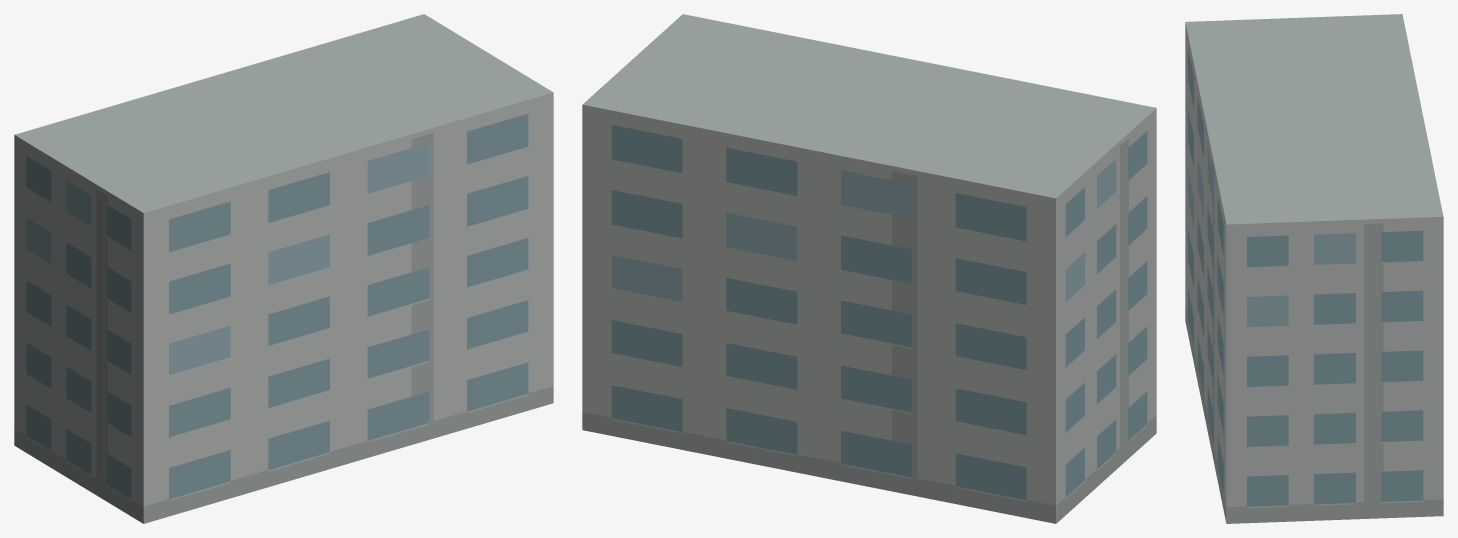
Rendered from residential-0534115b-73e8-434d-bd21-79f869ddd86d.glb.
The picture shows the model from 3 angles, left to right: view 1: azimuth 30°, elevation 25°; view 2: azimuth 150°, elevation 25°; view 3: azimuth 270°, elevation 25°; orthographic projection. The views are drawn at different scales.
Parts seen in each view (by area): view 1: residential-0534115b-73e8-434d-bd21-79f869ddd86d.tmp; view 2: residential-0534115b-73e8-434d-bd21-79f869ddd86d.tmp; view 3: residential-0534115b-73e8-434d-bd21-79f869ddd86d.tmp.
Part boxes in pixels (x1,y1,x2,y2): residential-0534115b-73e8-434d-bd21-79f869ddd86d.tmp: (14, 14, 553, 523); residential-0534115b-73e8-434d-bd21-79f869ddd86d.tmp: (582, 14, 1156, 523); residential-0534115b-73e8-434d-bd21-79f869ddd86d.tmp: (1185, 14, 1443, 523).
Bounding box in the file's own units: 23.01 × 15.25 × 11.92.
